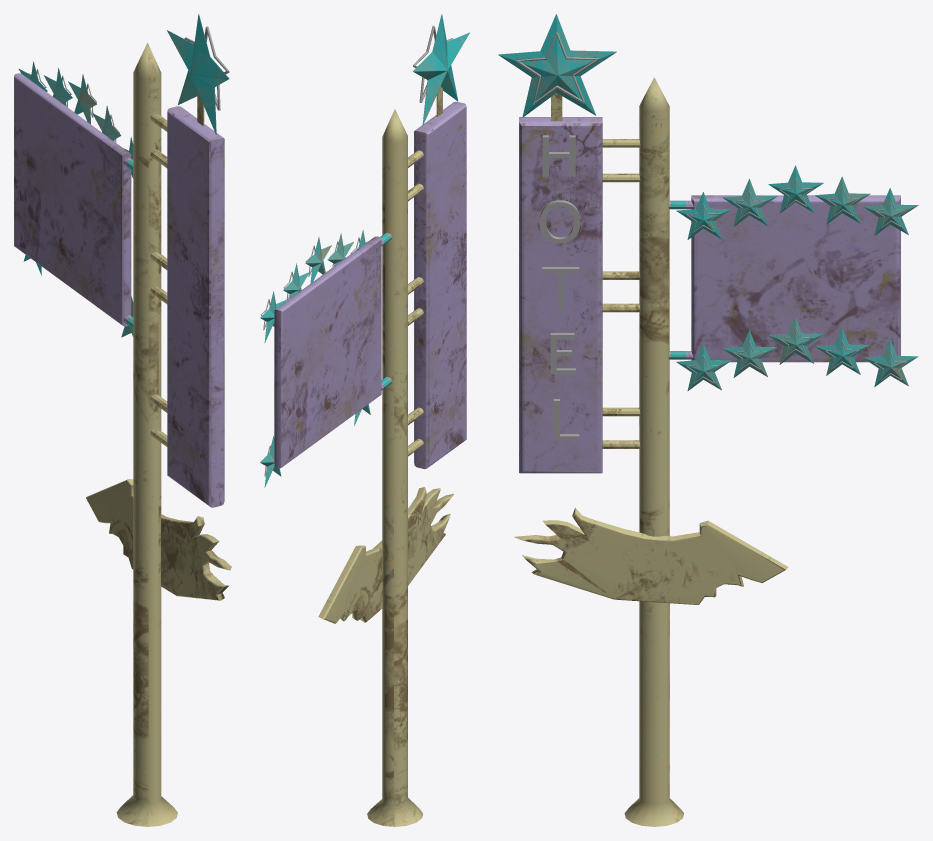
File: hotel_sign (2).fbx
3 renders of one model, left to right at view 1: azimuth 30°, elevation 25°; view 2: azimuth 150°, elevation 25°; view 3: azimuth 270°, elevation 25°, orthographic. The views are drawn at different scales.
Parts seen in each view (by area): view 1: polySurface208, polySurface204, polySurface214, polySurface199, polySurface201, polySurface200, polySurface177, polySurface195; view 2: polySurface208, polySurface204, polySurface214, polySurface199, polySurface201, polySurface177, polySurface200; view 3: polySurface214, polySurface204, polySurface208, polySurface199, polySurface177, polySurface201, polySurface200, polySurface195, polySurface185, polySurface213, polySurface196, polySurface212 (+4 smaller).
Part boxes in pixels (x1=…): polySurface208: x1=116, y1=42, x2=177, y2=826; polySurface204: x1=167, y1=106, x2=224, y2=507; polySurface214: x1=14, y1=73, x2=131, y2=326; polySurface199: x1=86, y1=479, x2=231, y2=600; polySurface201: x1=167, y1=14, x2=229, y2=134; polySurface200: x1=68, y1=74, x2=96, y2=124; polySurface177: x1=28, y1=26, x2=229, y2=150; polySurface195: x1=43, y1=68, x2=72, y2=105; polySurface208: x1=367, y1=109, x2=423, y2=826; polySurface204: x1=414, y1=101, x2=466, y2=469; polySurface214: x1=274, y1=236, x2=381, y2=468; polySurface199: x1=318, y1=487, x2=453, y2=623; polySurface201: x1=413, y1=14, x2=469, y2=124; polySurface177: x1=260, y1=25, x2=453, y2=476; polySurface200: x1=305, y1=237, x2=331, y2=283; polySurface214: x1=691, y1=195, x2=900, y2=362; polySurface204: x1=519, y1=117, x2=602, y2=473; polySurface208: x1=624, y1=77, x2=683, y2=826; polySurface199: x1=514, y1=508, x2=788, y2=604; polySurface177: x1=516, y1=32, x2=908, y2=440; polySurface201: x1=498, y1=14, x2=616, y2=117; polySurface200: x1=768, y1=165, x2=823, y2=213; polySurface195: x1=815, y1=176, x2=870, y2=224; polySurface185: x1=815, y1=327, x2=870, y2=375; polySurface213: x1=722, y1=178, x2=777, y2=226; polySurface196: x1=676, y1=343, x2=731, y2=390; polySurface212: x1=863, y1=339, x2=918, y2=386.
Bounding box in the file's own units: 0.3354 × 5.11 × 2.43.
